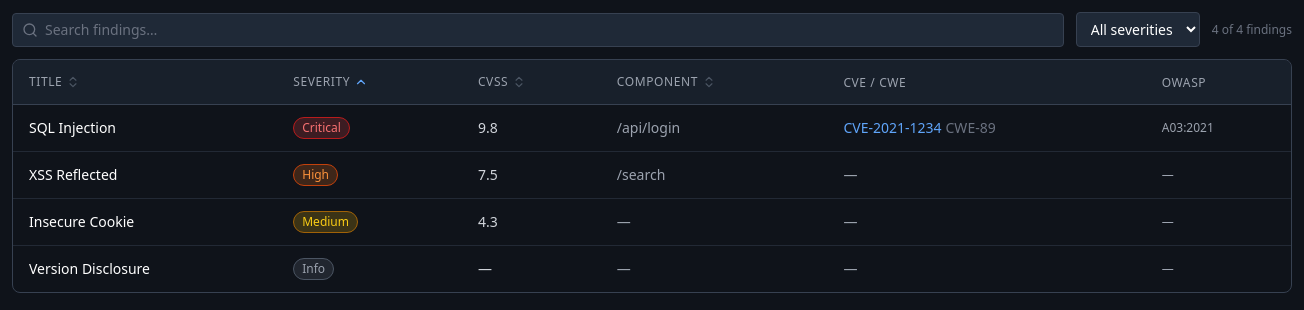
FindingsTable › filters findings by severity
Step 1. Select "Critical" in the dropdown named "Filter by severity" → (1138, 30), box x1=1076 y1=12 x2=1200 y2=47
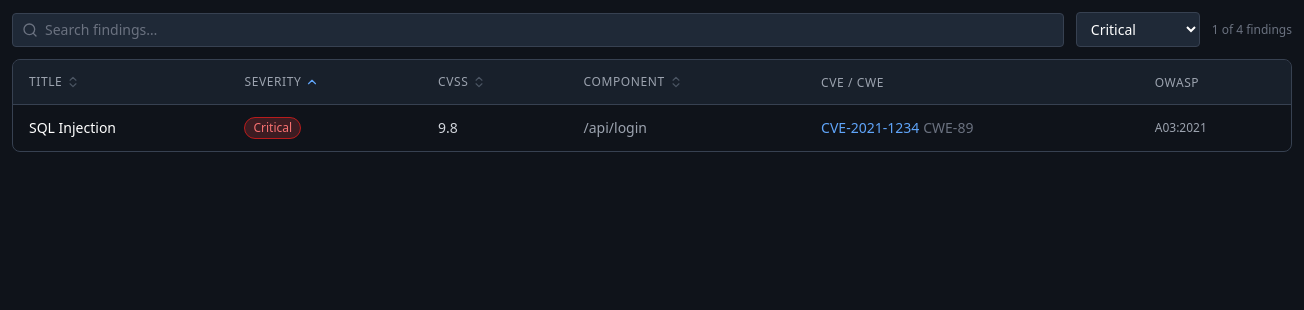
Expected: the text "SQL Injection" is shown, x1=13 y1=104 x2=228 y2=151
Result: the text "XSS Reflected" is gone
